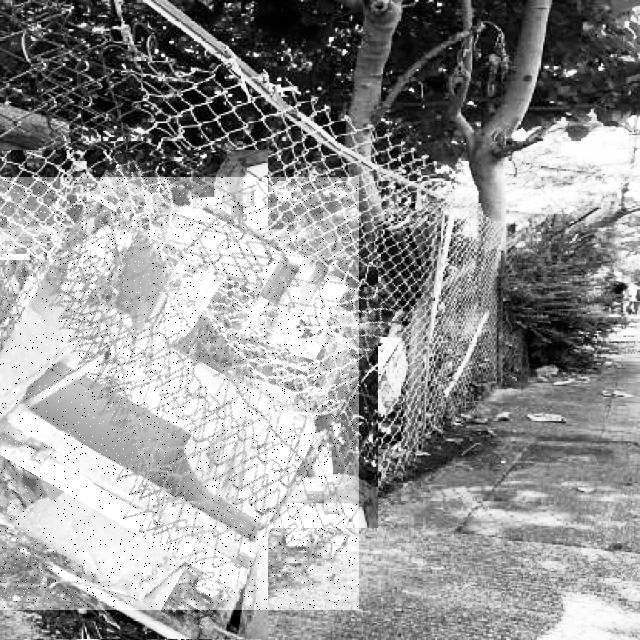anomaly-fence: (0, 177, 359, 610)
